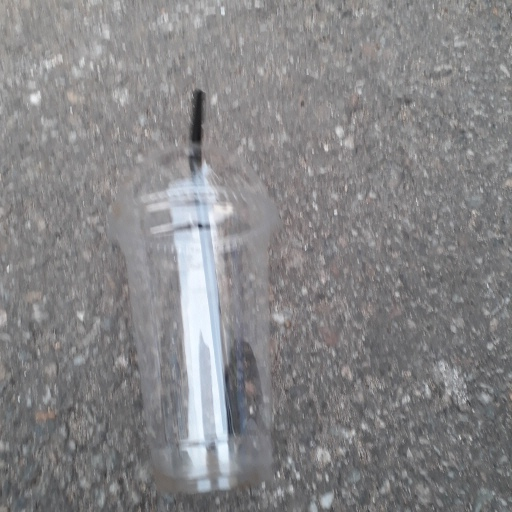Plastic_2: (103, 95, 289, 489)
